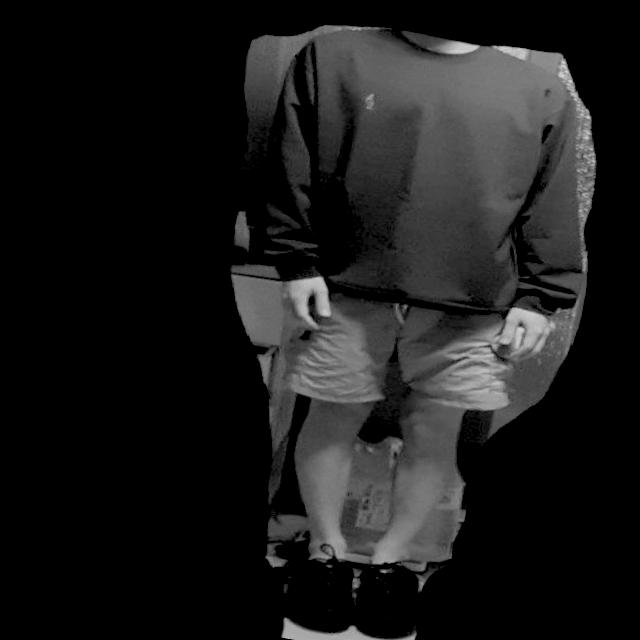mtm: (228, 8, 622, 330)
shortpants: (275, 281, 522, 439)
